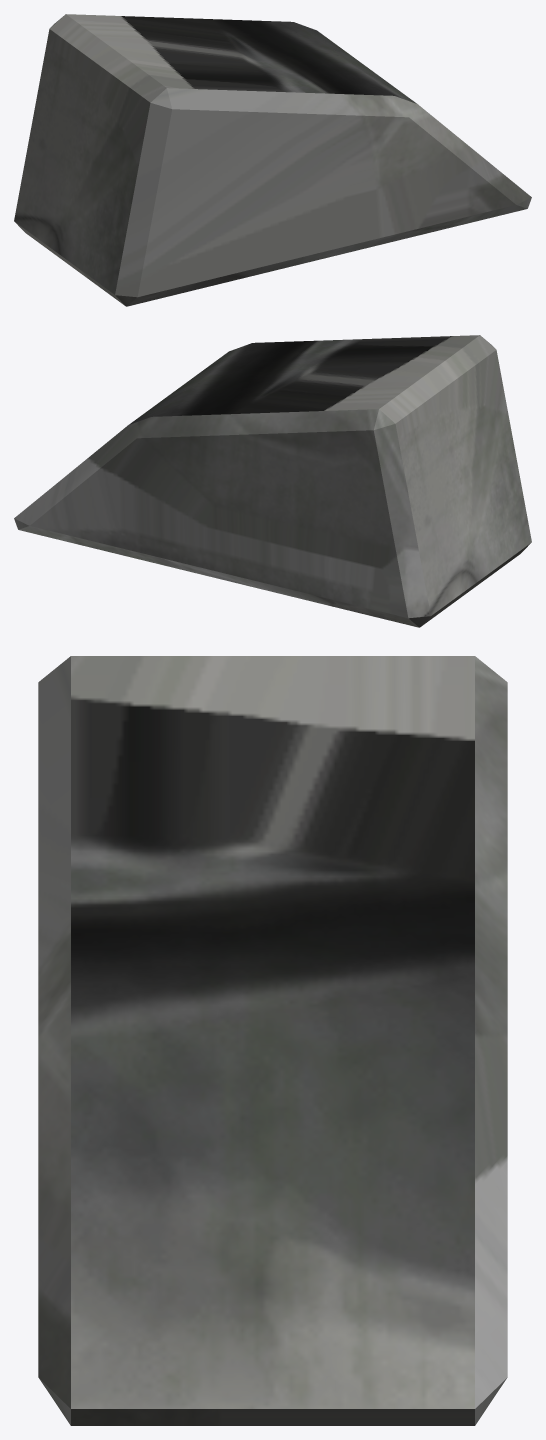
File: 12_R_Pequeña.fbx
The picture shows the model from 3 angles, top to bottom: view 1: azimuth 30°, elevation 25°; view 2: azimuth 150°, elevation 25°; view 3: azimuth 270°, elevation 25°; orthographic projection. The views are drawn at different scales.
Parts seen in each view (by area): view 1: 12_R_Pequeña_Low; view 2: 12_R_Pequeña_Low; view 3: 12_R_Pequeña_Low.
Boxes of the visible parts, left/top/right/bottom form: 12_R_Pequeña_Low: left=14, top=14, right=531, bottom=306; 12_R_Pequeña_Low: left=14, top=335, right=531, bottom=627; 12_R_Pequeña_Low: left=38, top=656, right=507, bottom=1425.
Size of the model in its own units: 410 by 196 by 200.
